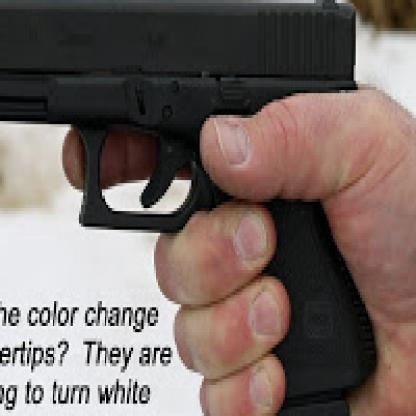gun: (0, 0, 395, 413)
